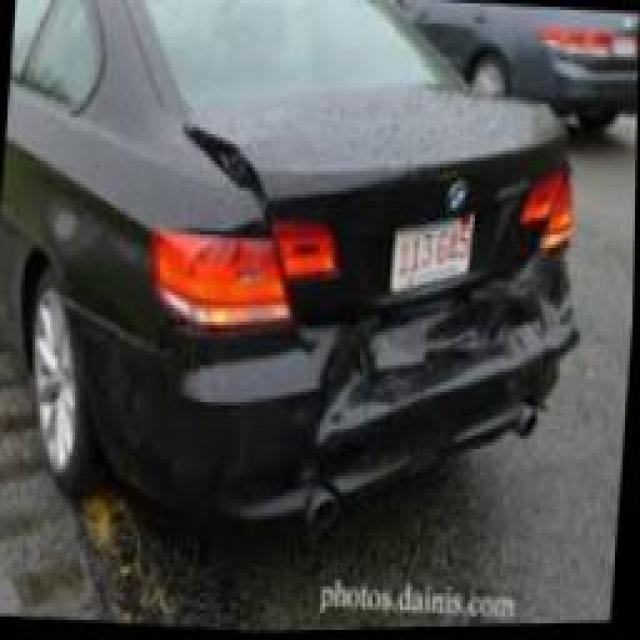Bumper: (84, 259, 579, 545)
Dickey: (183, 86, 573, 336)
